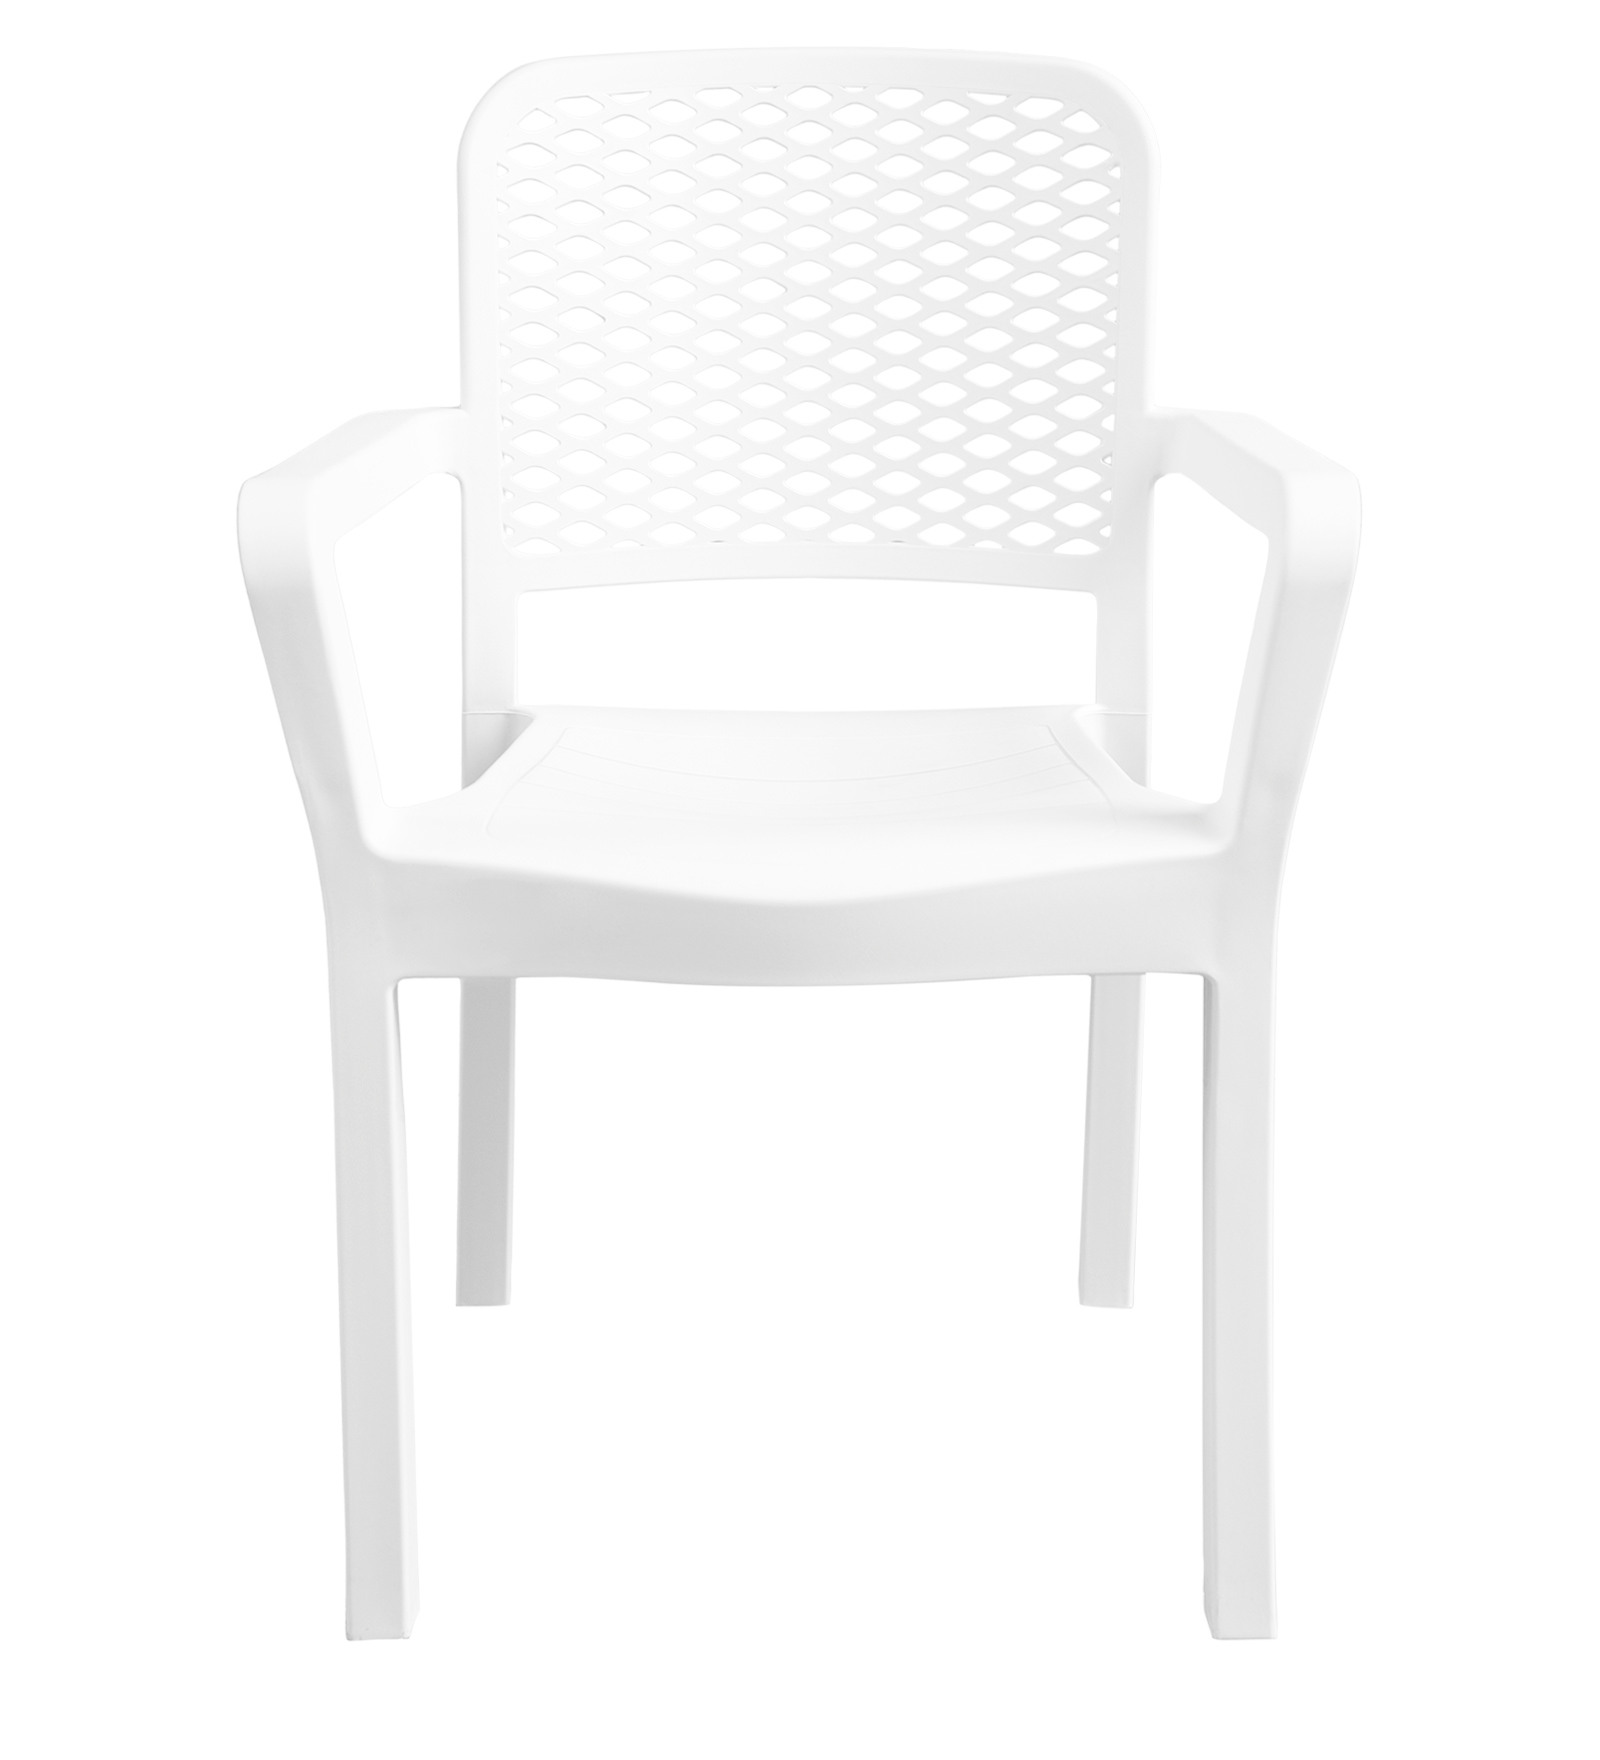Luxury Plastic Chair in White Colour by Italica Furniture: (208, 37, 1359, 1656)
